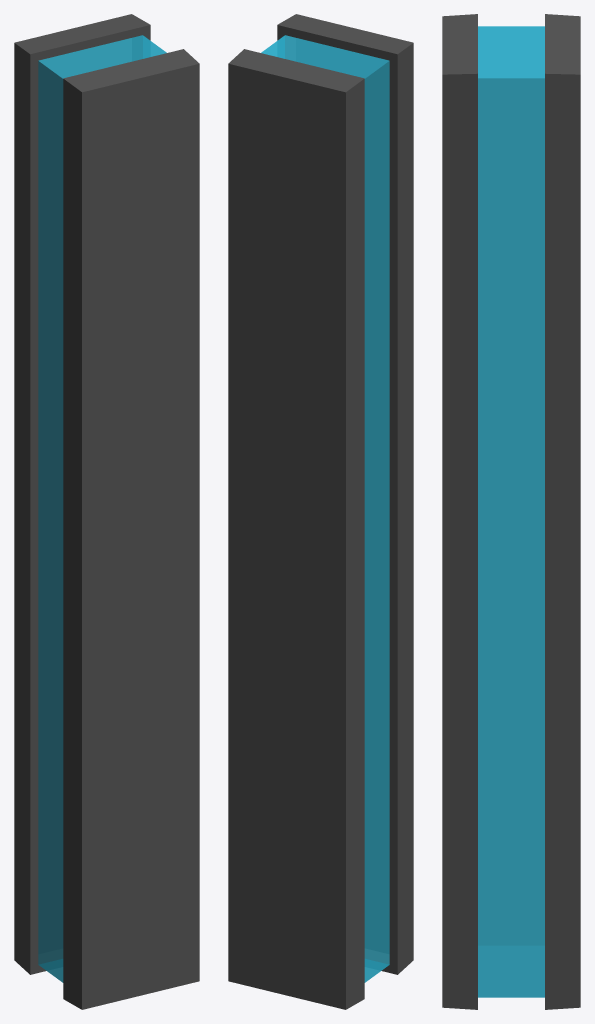
File: Pillar 2 blue .fbx
3 views of the same model, side by side, from view 1: azimuth 30°, elevation 25°; view 2: azimuth 150°, elevation 25°; view 3: azimuth 270°, elevation 25° (orthographic).
Parts seen in each view (by area): view 1: Cube; view 2: Cube; view 3: Cube.
Part boxes in pixels (x1,y1,x2,y2): Cube: (14, 14, 199, 1009); Cube: (228, 14, 413, 1009); Cube: (442, 14, 580, 1009).
Bounding box in the file's own units: 225 × 1681 × 230.
